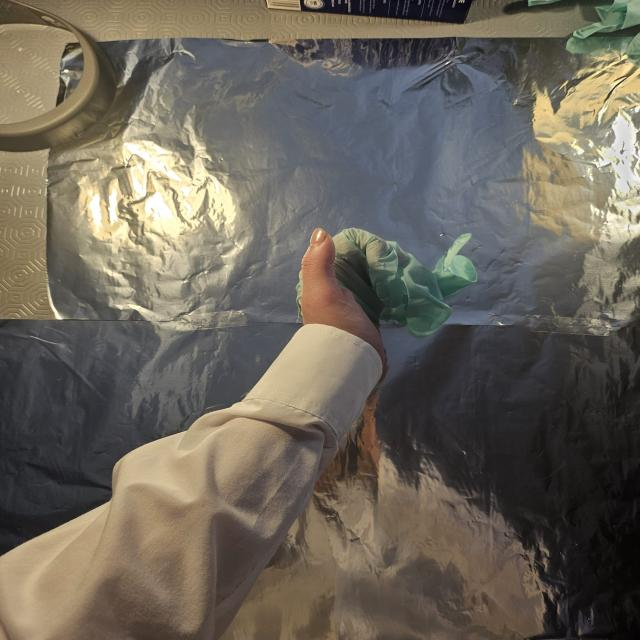glove_partial: (294, 227, 480, 352)
